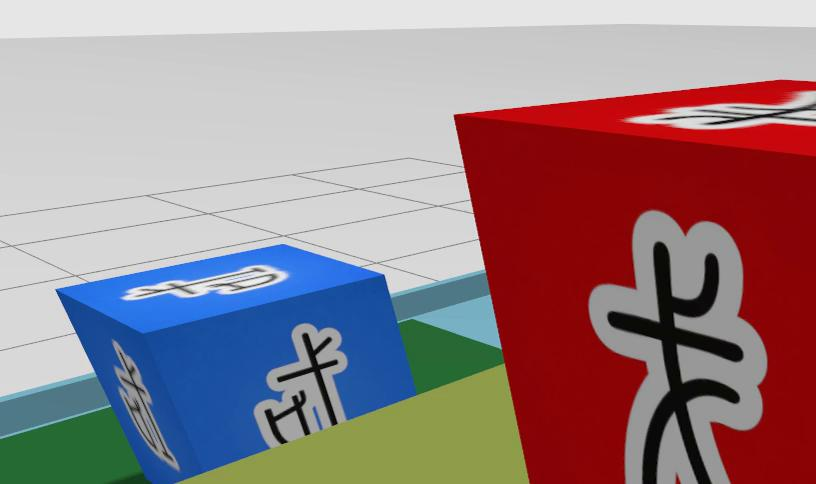KFS_FAKE: (453, 82, 816, 484), (589, 211, 766, 484), (624, 90, 816, 129)
KFS_REAL: (58, 242, 417, 484), (254, 323, 347, 446), (114, 349, 178, 470), (122, 265, 287, 300), (113, 341, 118, 348), (114, 348, 116, 354)
